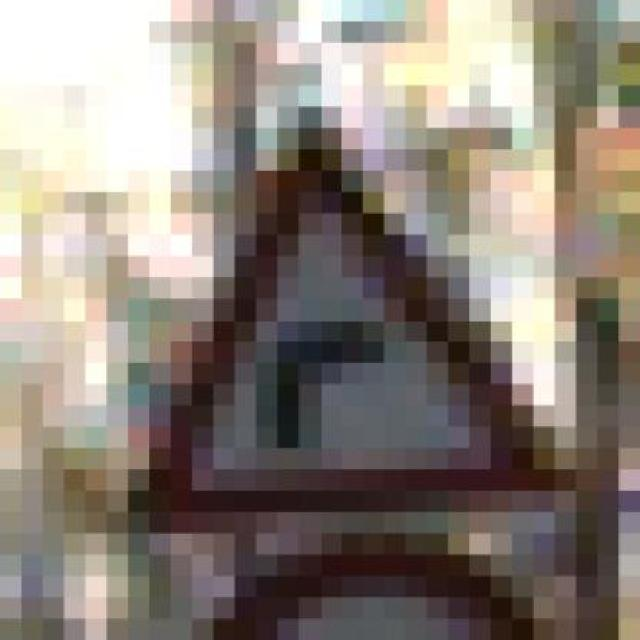Dangerous Rright Curve Ahead: (107, 107, 576, 555)
